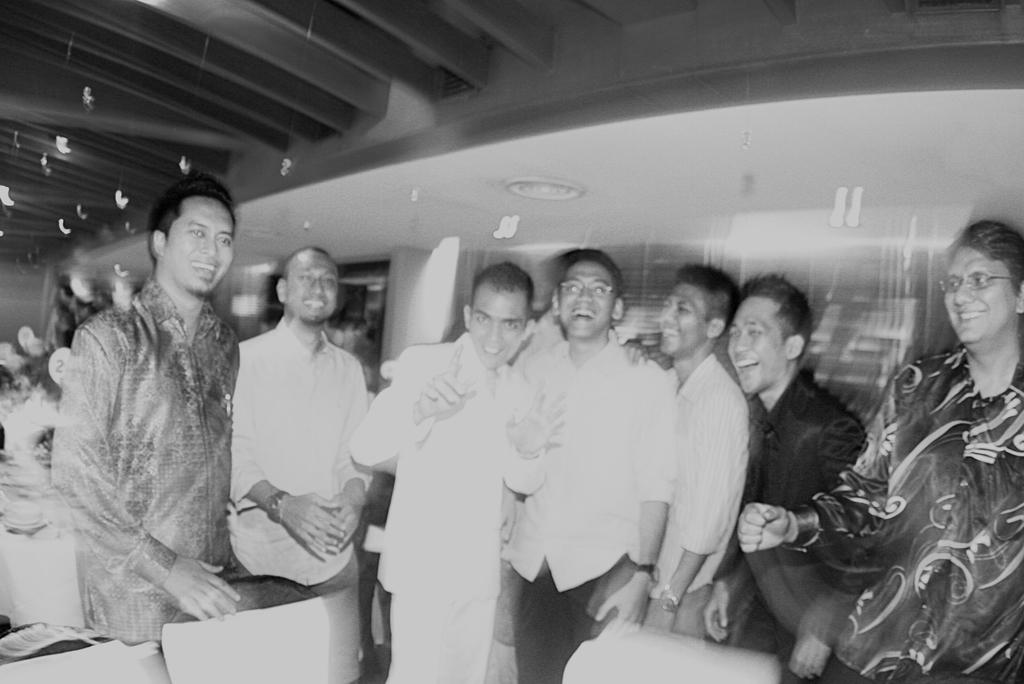Sem Máscara: (937, 245, 1017, 347), (160, 190, 237, 286), (726, 290, 788, 394), (462, 280, 527, 368), (556, 262, 614, 341), (277, 246, 337, 319), (652, 277, 705, 359)
